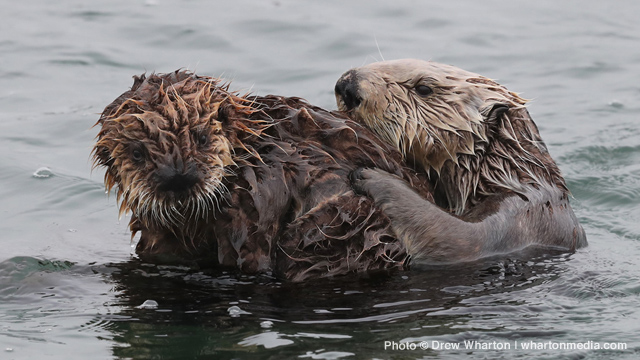otter: (86, 56, 608, 306)
